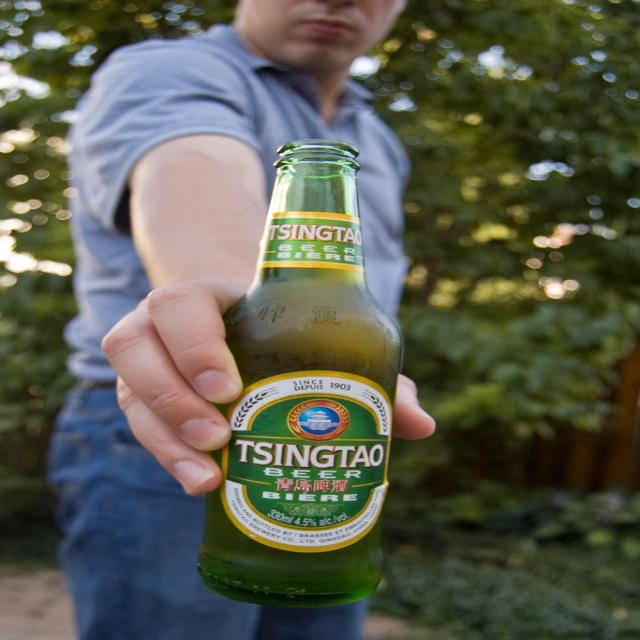tsingtao: (220, 370, 395, 554)
